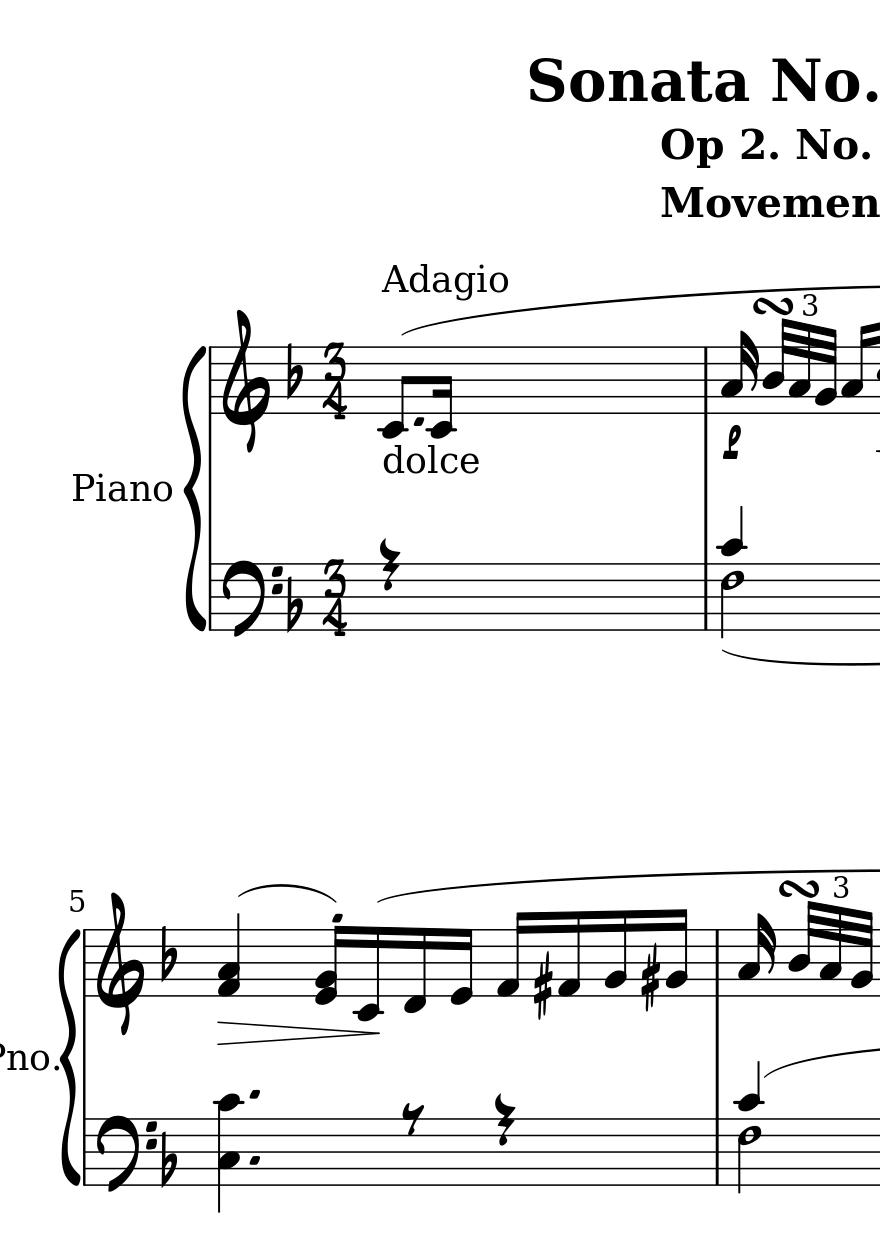16_-1: (402, 925, 429, 1014)
16_-2: (354, 924, 382, 1023), (428, 344, 455, 442)
16_0: (447, 927, 474, 1008)
16_0_2: (314, 925, 348, 1005)
16_1: (494, 910, 528, 1000), (557, 908, 582, 1001)
16_2: (602, 907, 628, 998), (664, 907, 689, 998)
16_3: (736, 911, 775, 997), (719, 329, 757, 415), (840, 321, 873, 416)
2_6: (735, 1117, 764, 1195), (720, 562, 746, 641)
3: (321, 556, 349, 597), (322, 340, 348, 381), (800, 292, 819, 318), (831, 874, 850, 900)
32_2: (849, 907, 874, 999), (813, 323, 837, 415)
32_3: (788, 321, 812, 416), (819, 904, 843, 999)
32_4: (787, 900, 817, 998), (761, 318, 790, 414)
4: (321, 378, 351, 421), (321, 595, 351, 637)
4_1_3: (215, 912, 242, 1000)
4_3_10: (212, 1091, 246, 1212)
5: (67, 887, 86, 914)
8_-2: (377, 345, 412, 440)
Brace: (181, 343, 205, 639), (59, 918, 80, 1192)
Diminuendo_hairpin: (218, 1019, 378, 1046)
Fclef: (94, 1113, 156, 1195), (221, 559, 282, 640)
Flat: (157, 923, 180, 984), (283, 340, 304, 401), (158, 1129, 179, 1189), (284, 574, 304, 634)
Gclef: (220, 307, 270, 453), (94, 890, 144, 1036)
Pno: (70, 469, 175, 506)
Rests4: (492, 1092, 517, 1148), (377, 537, 401, 594)
Rests8: (400, 1102, 425, 1137)
Sharp: (531, 952, 554, 1020), (639, 945, 660, 1013)
Single_barline: (708, 929, 726, 996), (709, 1118, 726, 1185), (698, 563, 714, 630), (698, 347, 714, 412), (205, 346, 219, 414), (78, 1119, 92, 1185), (204, 564, 217, 629)
Slur: (238, 883, 340, 905)
TimeSig: (320, 341, 348, 422), (320, 558, 347, 640)
Turn: (750, 291, 794, 316), (778, 877, 819, 897)
dot: (247, 1087, 263, 1104), (246, 1153, 263, 1167)
p: (720, 422, 743, 462)
